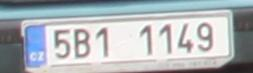1: (139, 24, 154, 56), (95, 27, 110, 57), (159, 22, 172, 52)
4: (176, 22, 193, 53)
5: (53, 27, 72, 61)
9: (196, 23, 215, 52)
B: (73, 28, 91, 61)
